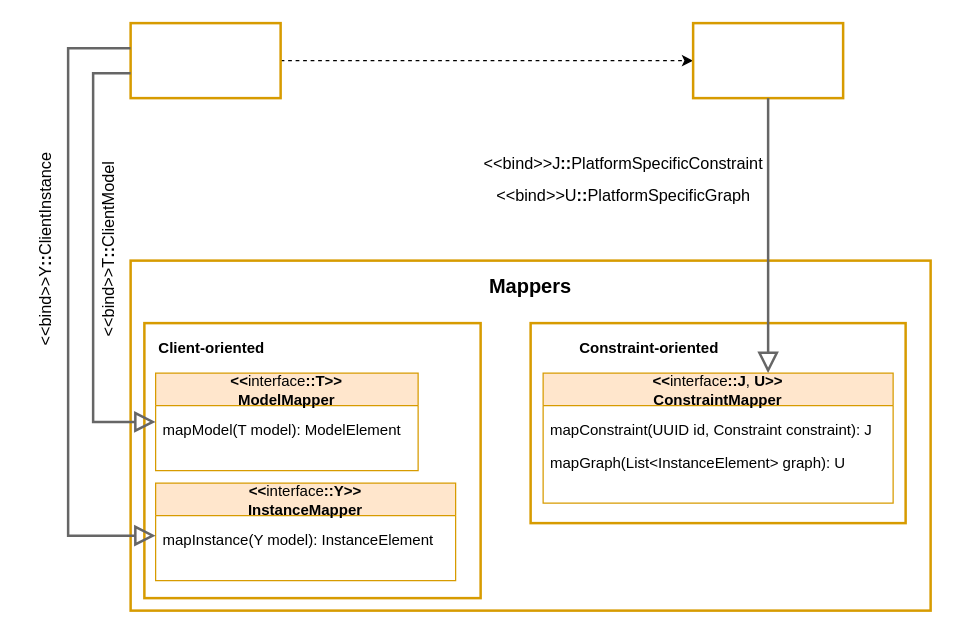
Some shapes in this 954 by 633 pixel diagram are drawn without their labels. Here are the shapes that lost their labels. From the top down, the box of each, then its label:
(129, 21, 281, 99): Client-application
(691, 21, 844, 99): Platform-specific constraint modeling tool
